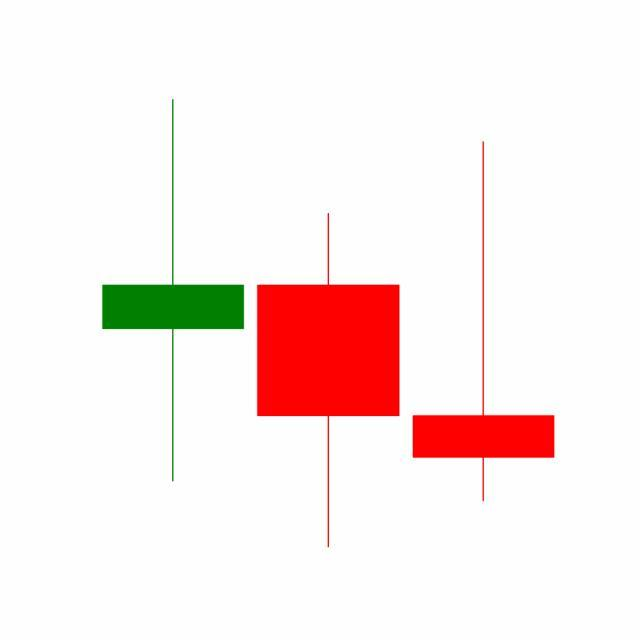Spinning Top: (406, 138, 562, 507)
